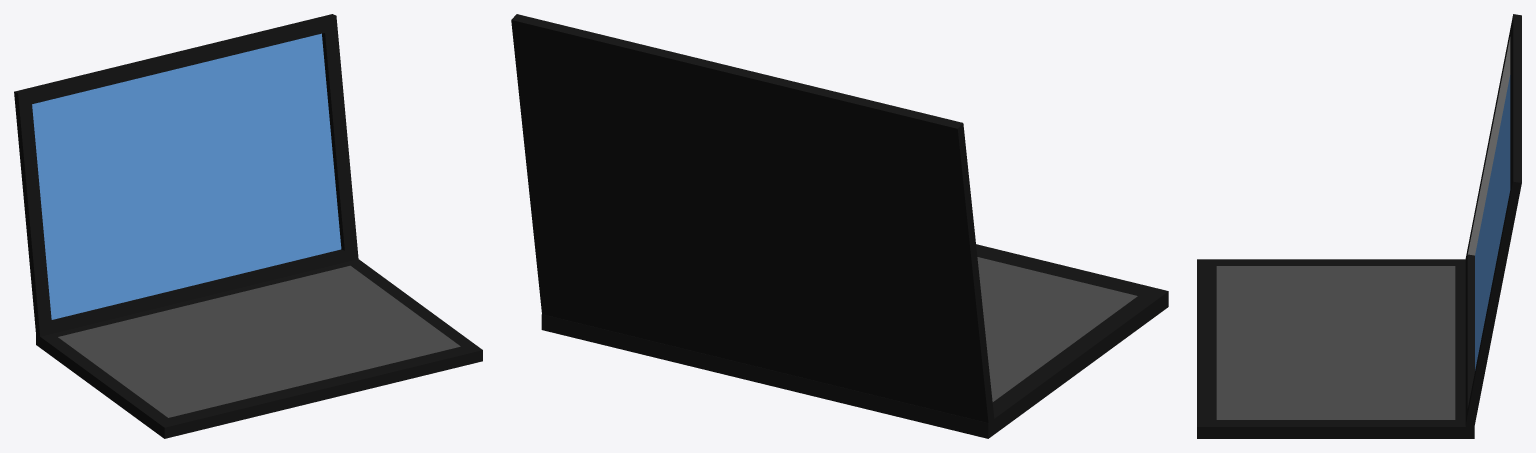
File: Laptop.FBX
3 views of the same model, side by side, from view 1: azimuth 30°, elevation 25°; view 2: azimuth 150°, elevation 25°; view 3: azimuth 270°, elevation 25° (orthographic). The views are drawn at different scales.
Parts seen in each view (by area): view 1: Box002; view 2: Box002; view 3: Box002.
Part boxes in pixels (x1,y1,x2,y2): Box002: [14, 14, 482, 438]; Box002: [511, 14, 1168, 438]; Box002: [1197, 14, 1521, 438].
Bounding box in the file's own units: 50 × 35.77 × 40.94.
